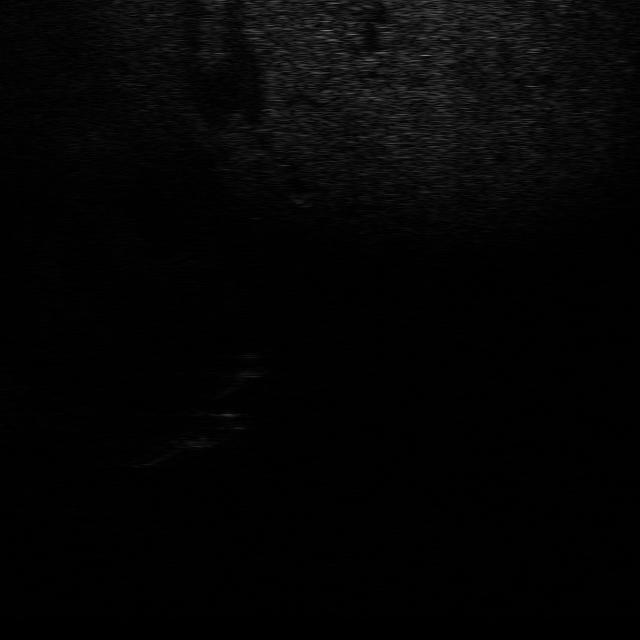ball: (218, 348, 272, 378)
square cage: (116, 439, 190, 474)
tyre: (172, 406, 248, 449)
